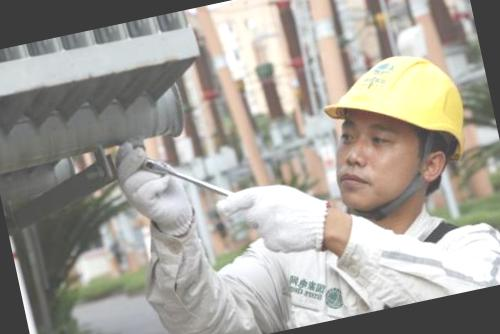person: (106, 36, 500, 334)
